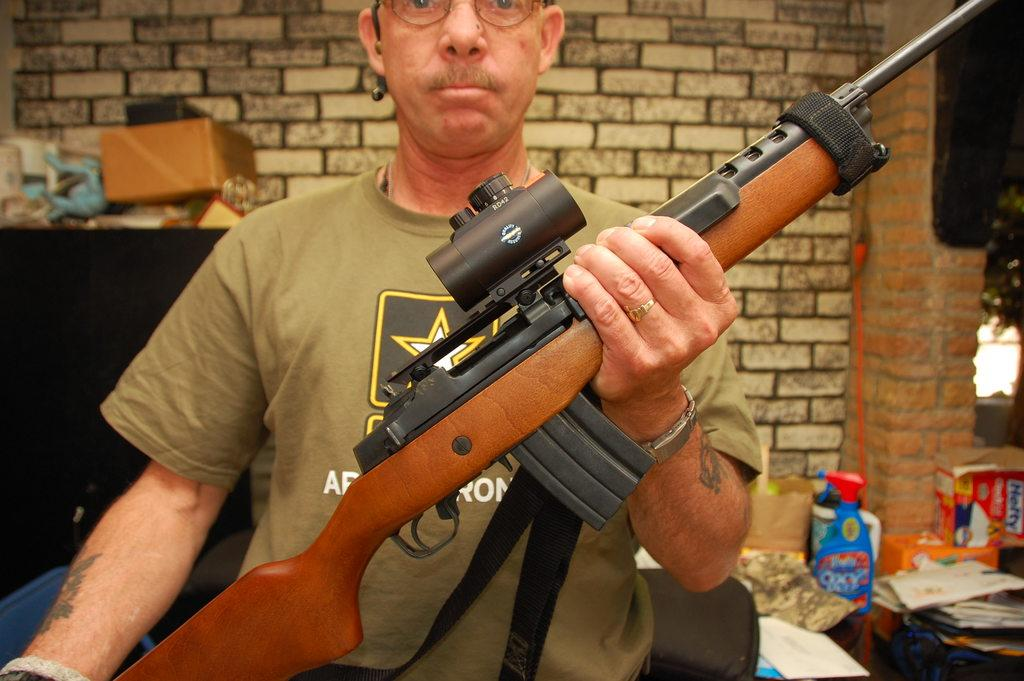Rifle: (250, 65, 995, 643)
